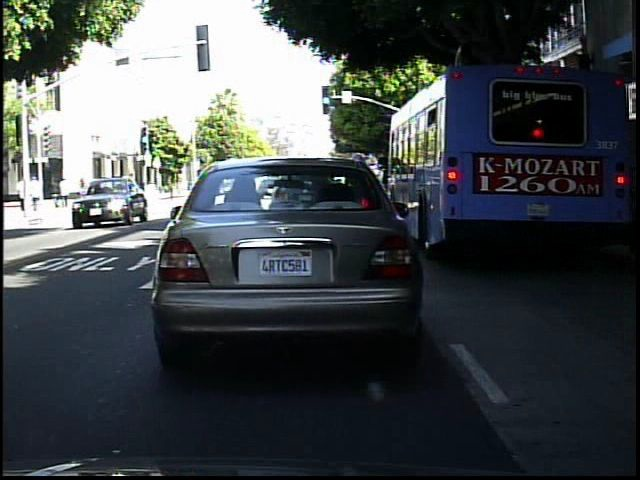person: (75, 173, 93, 212), (14, 173, 30, 216), (123, 170, 141, 205), (17, 175, 34, 209), (30, 173, 44, 213), (48, 177, 63, 211), (59, 176, 72, 212)
